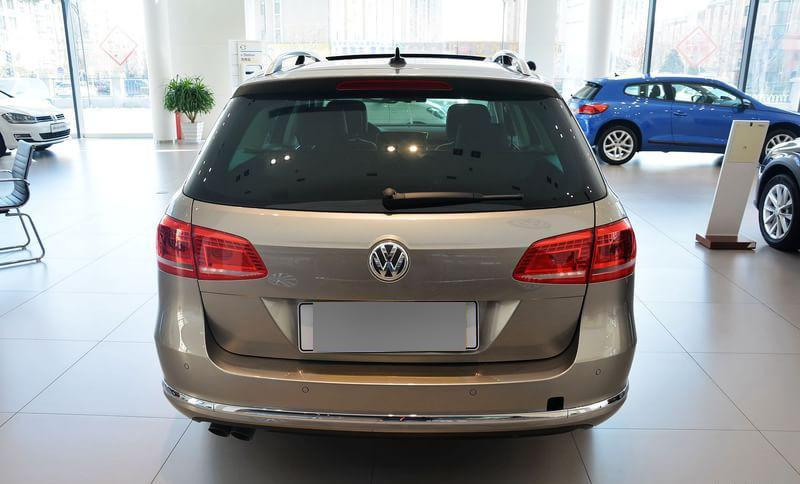Wagon: (153, 45, 638, 442)
